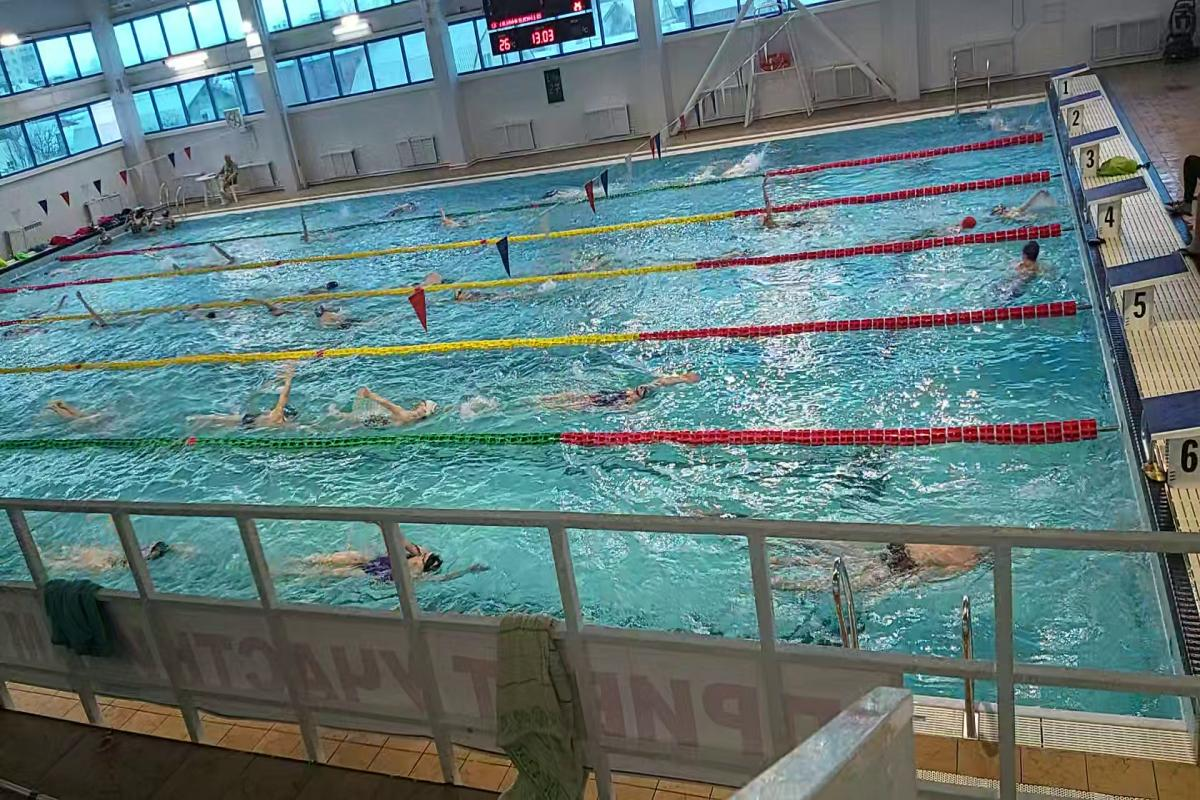swimmer: (783, 521, 1006, 590), (276, 529, 498, 588), (528, 360, 710, 422), (51, 520, 190, 576), (327, 381, 447, 438), (188, 378, 311, 432), (46, 386, 140, 438), (753, 176, 810, 233), (984, 186, 1059, 225), (72, 290, 138, 331), (1011, 238, 1064, 289), (309, 307, 394, 336), (451, 286, 523, 307), (247, 295, 299, 318), (919, 218, 980, 236), (410, 268, 458, 288), (302, 276, 352, 295)
